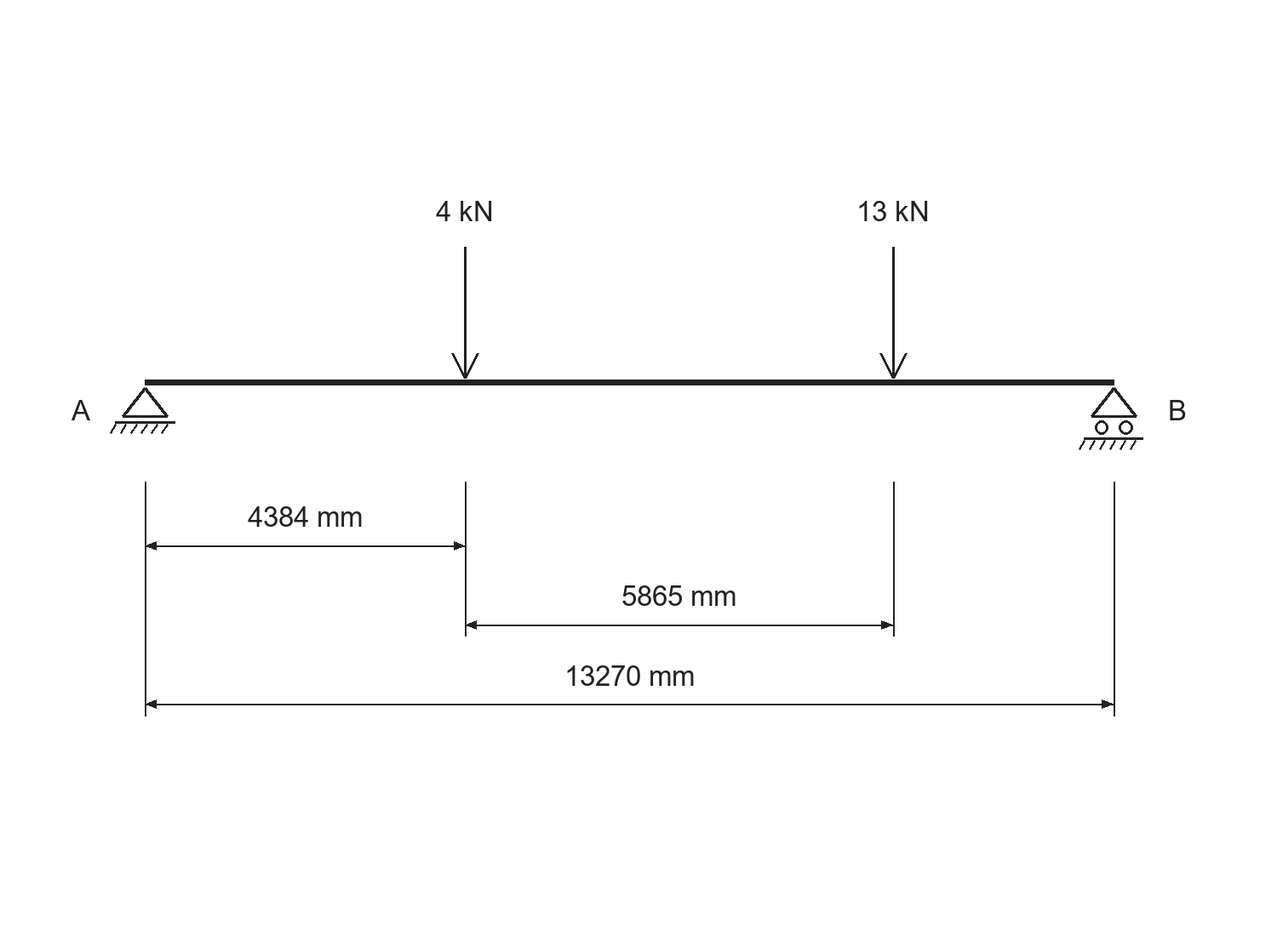pin_support: (110, 387, 175, 434)
point_load: (879, 247, 908, 379), (451, 247, 479, 379)
roller_support: (1079, 387, 1143, 450)
